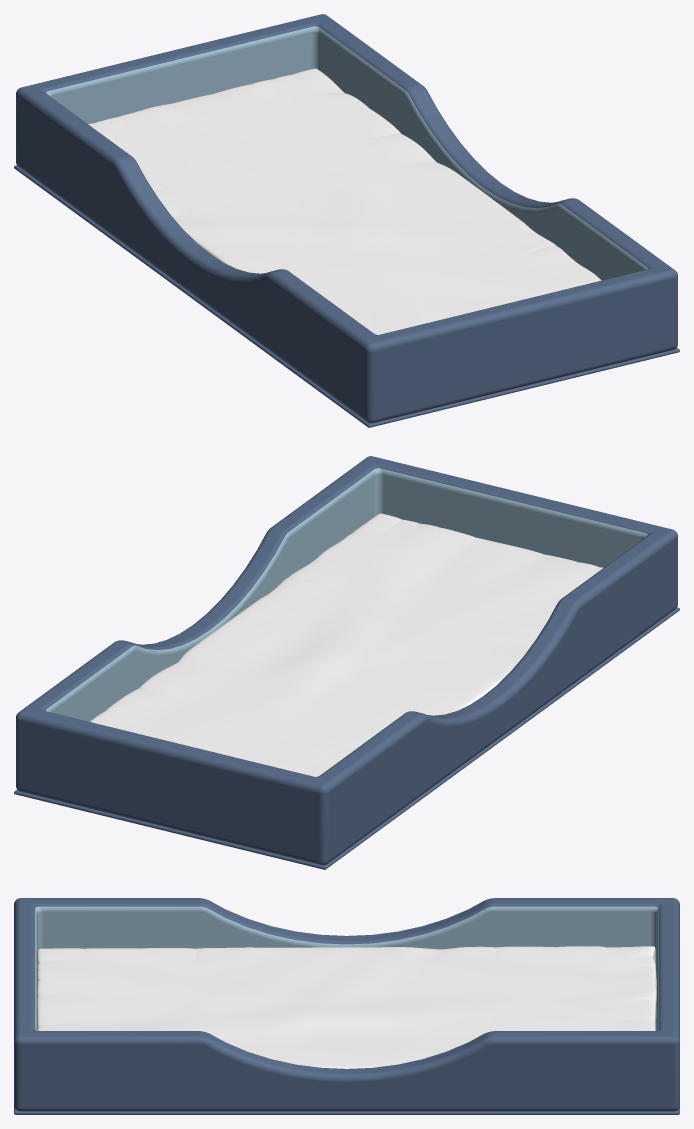
3 views of the same model, one above another, from view 1: azimuth 30°, elevation 25°; view 2: azimuth 150°, elevation 25°; view 3: azimuth 270°, elevation 25° (orthographic). The views are drawn at different scales.
Parts seen in each view (by area): view 1: root; view 2: root; view 3: root.
Boxes of the visible parts, box(x1,y1,x2,y2) form: root: box(14, 14, 679, 427); root: box(14, 456, 679, 869); root: box(14, 898, 679, 1114).
Bounding box in the file's own units: 1.02 × 0.2555 × 2.01.
